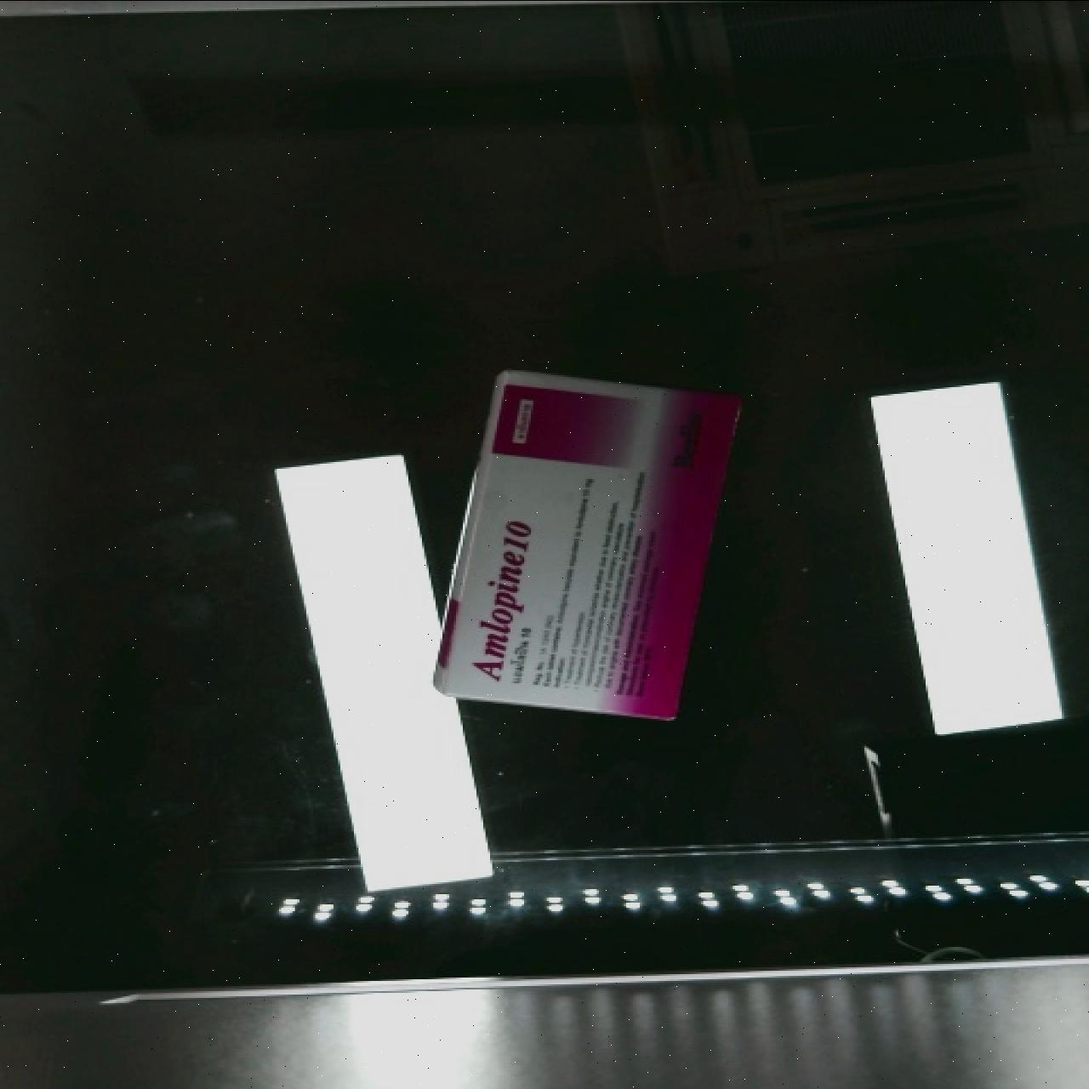medicine_label_obb: (445, 495, 555, 707)
